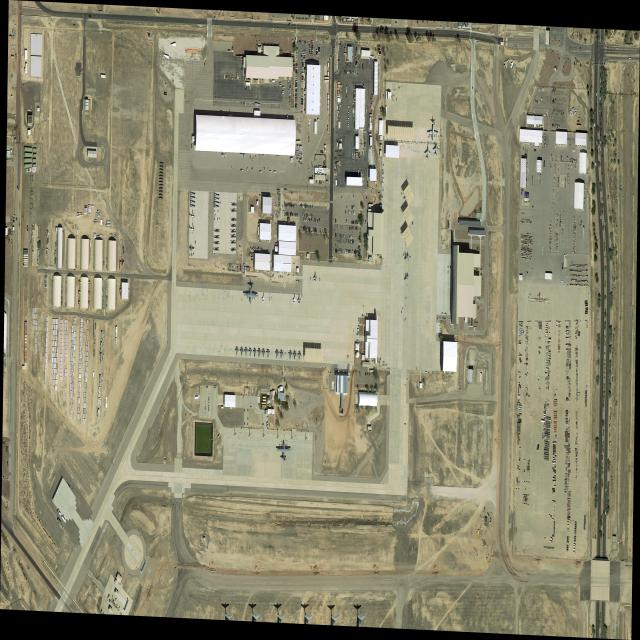large-vehicle: (561, 269, 564, 285), (595, 33, 597, 40), (595, 162, 597, 167), (600, 96, 601, 100)
plane: (243, 284, 259, 307), (276, 439, 292, 461), (427, 117, 440, 143), (501, 56, 511, 72), (508, 57, 516, 72), (402, 270, 410, 284), (403, 250, 410, 264), (433, 142, 440, 156), (425, 146, 431, 159), (190, 222, 195, 235), (190, 210, 195, 222), (279, 349, 284, 360), (252, 348, 257, 359), (239, 347, 244, 358), (189, 243, 195, 252), (288, 349, 292, 361), (262, 291, 266, 303), (248, 347, 252, 359), (266, 349, 270, 360), (275, 349, 279, 360), (293, 350, 297, 361), (297, 351, 301, 362), (293, 293, 297, 304), (297, 293, 301, 304), (262, 348, 266, 359), (257, 348, 261, 359), (235, 346, 239, 357), (244, 347, 248, 358), (313, 272, 317, 282)
small-vehicle: (253, 247, 256, 251), (355, 51, 358, 55), (266, 421, 269, 425), (266, 424, 269, 428), (345, 70, 348, 74), (555, 124, 558, 128), (300, 40, 302, 45), (252, 247, 254, 252), (258, 247, 260, 252), (260, 247, 262, 252), (261, 247, 263, 252), (284, 203, 286, 208), (594, 123, 596, 128), (599, 109, 601, 114), (350, 62, 352, 67), (344, 70, 346, 75), (350, 70, 352, 75), (355, 60, 357, 65), (553, 99, 555, 104), (552, 88, 554, 93), (541, 96, 543, 101), (357, 220, 359, 225), (300, 226, 302, 231), (286, 212, 288, 217), (305, 204, 307, 209), (335, 218, 337, 223), (355, 220, 357, 225), (313, 227, 315, 232), (314, 227, 316, 232), (325, 228, 327, 233), (352, 249, 354, 254), (301, 98, 304, 101), (275, 242, 278, 245), (259, 170, 262, 173), (282, 86, 285, 89), (250, 247, 252, 251), (255, 247, 257, 251), (320, 180, 322, 184), (602, 549, 604, 553), (600, 215, 602, 219), (302, 40, 304, 44), (596, 141, 598, 145), (355, 46, 357, 50), (355, 54, 357, 58), (347, 62, 349, 66), (349, 70, 351, 74), (464, 23, 466, 27), (355, 63, 357, 67), (542, 88, 544, 92), (535, 99, 537, 103), (598, 35, 600, 39), (473, 37, 475, 41), (539, 88, 541, 92), (540, 88, 542, 92), (554, 88, 556, 92), (555, 98, 557, 102), (538, 100, 540, 104), (555, 114, 557, 118), (557, 124, 559, 128), (310, 214, 312, 218), (294, 204, 296, 208), (346, 240, 348, 244), (340, 234, 342, 238), (349, 235, 351, 239), (346, 220, 348, 224), (352, 240, 354, 244), (349, 226, 351, 230), (351, 226, 353, 230), (352, 226, 354, 230), (355, 226, 357, 230), (356, 226, 358, 230), (337, 249, 339, 253), (339, 249, 341, 253), (346, 249, 348, 253), (301, 88, 303, 91), (311, 42, 313, 45), (311, 49, 314, 51), (295, 64, 298, 66), (295, 66, 298, 68), (295, 80, 298, 82), (302, 96, 304, 99), (302, 76, 304, 79), (325, 174, 327, 177), (326, 180, 328, 183), (251, 258, 253, 261), (257, 248, 259, 251), (302, 72, 304, 75), (301, 54, 303, 57), (262, 154, 265, 156), (240, 169, 243, 171), (289, 91, 292, 93), (594, 110, 596, 113), (601, 172, 603, 175), (604, 222, 606, 225), (605, 488, 607, 491), (308, 45, 311, 47), (316, 49, 318, 52), (213, 17, 216, 19), (279, 82, 282, 84), (280, 84, 282, 87), (601, 77, 603, 80), (339, 43, 341, 46), (356, 49, 358, 52), (356, 340, 359, 342), (267, 416, 269, 419), (477, 298, 480, 300), (347, 71, 349, 74), (348, 71, 350, 74), (352, 71, 354, 74), (353, 71, 355, 74), (466, 24, 468, 27), (552, 101, 554, 104), (552, 124, 554, 127), (539, 100, 541, 103), (553, 124, 555, 127), (340, 240, 342, 243), (343, 235, 345, 238), (335, 248, 336, 254), (248, 195, 249, 200), (243, 263, 244, 268), (286, 203, 287, 208), (287, 203, 288, 208), (288, 203, 289, 208), (605, 510, 606, 515), (245, 85, 246, 90), (600, 140, 601, 145), (289, 203, 290, 208), (290, 203, 291, 208), (291, 203, 292, 208), (358, 319, 359, 324), (365, 220, 366, 225), (461, 22, 462, 27), (349, 62, 350, 67), (352, 205, 353, 210), (334, 47, 335, 52), (349, 210, 350, 215), (304, 217, 305, 222), (299, 226, 300, 231), (303, 226, 304, 231), (288, 212, 289, 217), (310, 204, 311, 209), (301, 203, 302, 208), (307, 226, 308, 231), (309, 227, 310, 232), (311, 227, 312, 232), (357, 220, 358, 225), (336, 248, 337, 253), (345, 249, 346, 254), (357, 250, 358, 255), (355, 249, 356, 254), (597, 150, 598, 154), (296, 58, 298, 60), (299, 40, 300, 44), (296, 47, 298, 49), (304, 40, 305, 44), (305, 40, 306, 44), (306, 41, 307, 45), (311, 40, 313, 42), (311, 45, 313, 47), (311, 47, 313, 49), (311, 51, 313, 53), (311, 53, 313, 55), (309, 51, 311, 53), (301, 111, 303, 113), (301, 103, 303, 105), (295, 96, 297, 98), (289, 89, 291, 91), (289, 87, 291, 89), (288, 80, 289, 84), (295, 106, 297, 108), (295, 104, 297, 106), (289, 102, 291, 104), (295, 102, 297, 104), (295, 100, 297, 102), (295, 98, 297, 100), (295, 69, 297, 71), (295, 92, 297, 94), (295, 89, 297, 91), (295, 87, 297, 89), (295, 84, 297, 86), (295, 82, 297, 84), (295, 78, 297, 80), (295, 72, 297, 74), (302, 78, 304, 80), (553, 110, 554, 114), (251, 256, 253, 258), (288, 274, 290, 276), (267, 271, 269, 273), (323, 181, 324, 185), (322, 181, 323, 185), (302, 66, 304, 68), (302, 64, 304, 66), (302, 62, 304, 64), (301, 59, 303, 61), (301, 57, 303, 59), (301, 51, 303, 53), (304, 53, 306, 55), (304, 55, 306, 57), (303, 57, 305, 59), (247, 167, 248, 171), (269, 171, 271, 173), (274, 171, 276, 173), (289, 93, 291, 95), (282, 93, 284, 95), (282, 91, 284, 93), (596, 93, 597, 97), (596, 103, 597, 107), (600, 122, 601, 126), (601, 113, 602, 117), (598, 180, 599, 184), (604, 496, 605, 500), (603, 510, 604, 514), (603, 534, 604, 538), (601, 164, 602, 168), (316, 51, 318, 53), (316, 54, 318, 56), (602, 154, 603, 158), (600, 73, 601, 77), (602, 71, 603, 75), (600, 79, 601, 83), (602, 81, 603, 85), (600, 84, 601, 88), (600, 90, 601, 94), (601, 155, 602, 159), (600, 128, 601, 132), (600, 133, 601, 137), (602, 142, 603, 146), (600, 147, 601, 151), (351, 220, 352, 224), (357, 328, 359, 330), (357, 334, 359, 336), (445, 313, 447, 315), (442, 313, 444, 315), (459, 22, 460, 26), (462, 23, 463, 27), (344, 53, 346, 55), (350, 211, 351, 215), (352, 211, 353, 215), (353, 211, 354, 215), (354, 211, 355, 215), (354, 205, 355, 209), (338, 59, 340, 61), (463, 23, 464, 27), (315, 228, 316, 232), (616, 47, 618, 49), (629, 58, 631, 60), (80, 72, 81, 76), (13, 218, 15, 220), (13, 220, 15, 222), (13, 222, 15, 224), (296, 204, 297, 208), (597, 36, 598, 40), (344, 47, 346, 49), (318, 47, 320, 49), (318, 49, 320, 51), (318, 51, 320, 53), (597, 31, 598, 35), (468, 23, 469, 27), (559, 124, 560, 128), (345, 210, 346, 214), (306, 213, 307, 217), (307, 214, 308, 218), (309, 214, 310, 218), (312, 214, 313, 218), (319, 218, 320, 222), (317, 218, 318, 222), (316, 218, 317, 222), (315, 218, 316, 222), (311, 218, 312, 222), (308, 218, 309, 222), (306, 218, 307, 222), (302, 227, 303, 231), (305, 227, 306, 231), (306, 227, 307, 231), (304, 213, 305, 217), (303, 213, 304, 217), (312, 205, 313, 209), (293, 204, 294, 208), (284, 212, 285, 216), (290, 212, 291, 216), (291, 212, 292, 216), (292, 212, 293, 216), (297, 213, 298, 217), (300, 204, 301, 208), (302, 204, 303, 208), (303, 205, 304, 209), (304, 205, 305, 209), (349, 240, 350, 244), (335, 233, 336, 237), (351, 235, 352, 239), (338, 225, 339, 229), (354, 220, 355, 224), (351, 240, 352, 244), (354, 240, 355, 244), (343, 249, 344, 253), (322, 228, 323, 232), (324, 228, 325, 232), (341, 249, 342, 253), (348, 249, 349, 253), (349, 249, 350, 253), (350, 249, 351, 253), (354, 250, 355, 254), (356, 250, 357, 254), (319, 181, 320, 184), (316, 181, 317, 184), (600, 116, 601, 119), (600, 67, 601, 70), (602, 66, 603, 69), (601, 88, 602, 91), (601, 95, 602, 98), (601, 104, 602, 107), (601, 128, 602, 131), (595, 149, 596, 152), (356, 57, 357, 60), (349, 196, 350, 199), (353, 206, 354, 209), (347, 206, 348, 209), (341, 196, 342, 199), (16, 217, 17, 220), (537, 100, 538, 103), (292, 204, 293, 207), (309, 218, 310, 221), (305, 218, 306, 221), (294, 213, 295, 216), (285, 213, 286, 216), (295, 213, 296, 216), (308, 205, 309, 208), (352, 221, 353, 224), (296, 53, 297, 55), (309, 54, 311, 55), (301, 101, 303, 102), (296, 68, 298, 69), (295, 94, 297, 95), (296, 76, 297, 78), (304, 51, 305, 53), (301, 53, 303, 54), (14, 214, 15, 216), (23, 85, 24, 86), (600, 103, 600, 107), (307, 205, 307, 209), (349, 249, 349, 253)
storage-tank: (355, 351, 359, 358)
